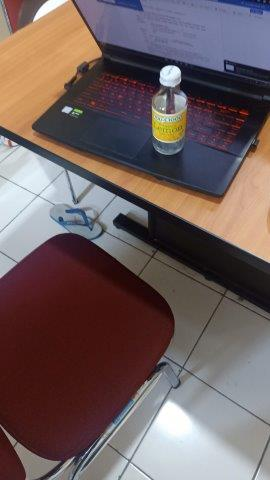botolkaca: (150, 65, 188, 155)
